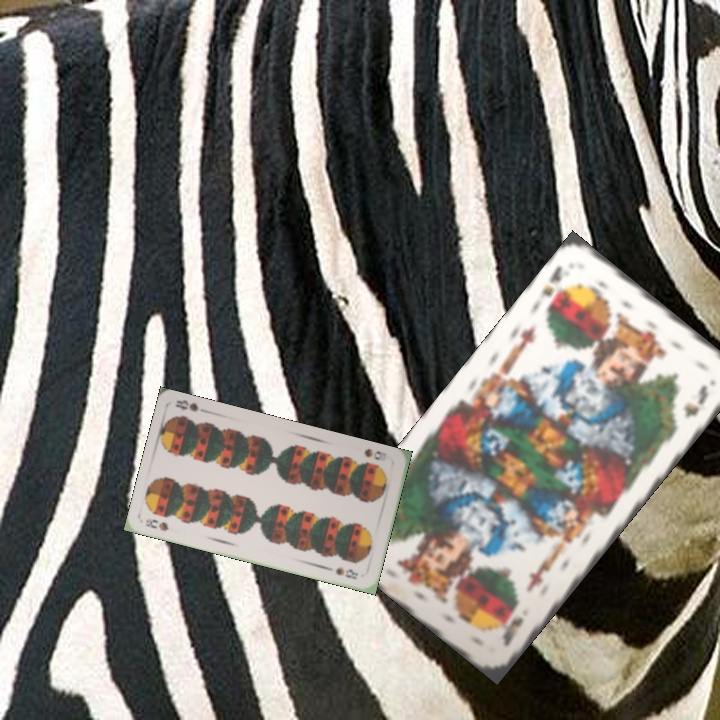S8: (141, 514, 172, 534), (360, 444, 384, 462)
SK: (531, 261, 569, 314), (498, 613, 526, 650)
